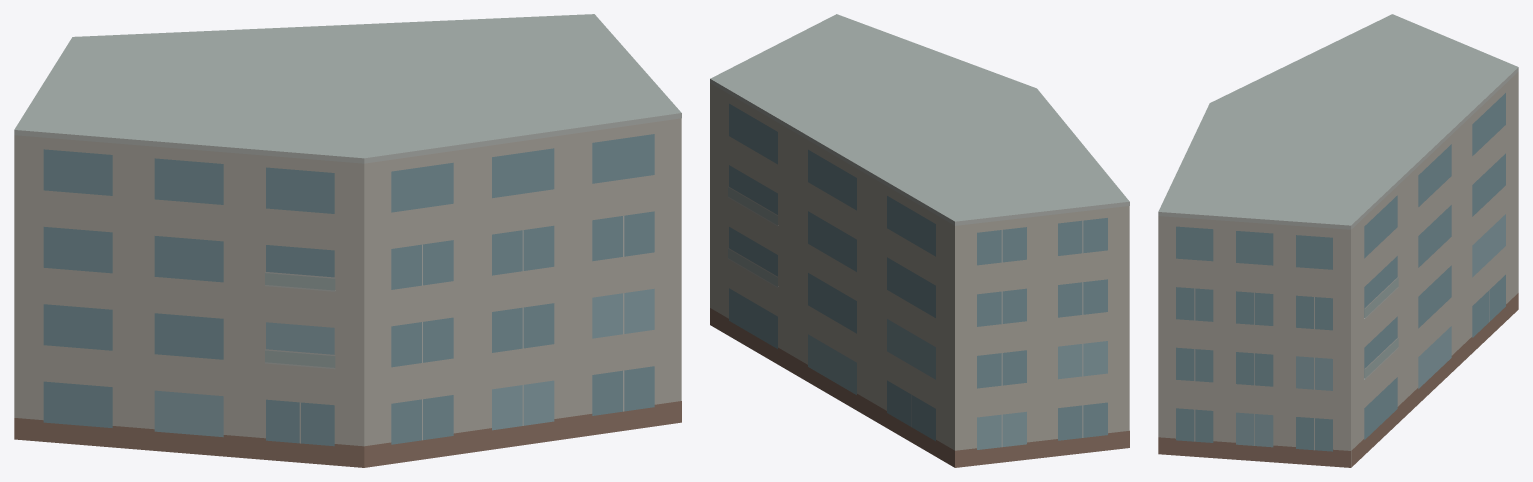
The model's file is survey-upis-32671041.glb.
3 renders of one model, left to right at view 1: azimuth 30°, elevation 25°; view 2: azimuth 150°, elevation 25°; view 3: azimuth 270°, elevation 25°, orthographic. The views are drawn at different scales.
Parts seen in each view (by area): view 1: survey-upis-32671041.tmp; view 2: survey-upis-32671041.tmp; view 3: survey-upis-32671041.tmp.
Part boxes in pixels (bbox=[...]): survey-upis-32671041.tmp: bbox=[14, 14, 681, 467]; survey-upis-32671041.tmp: bbox=[710, 14, 1129, 467]; survey-upis-32671041.tmp: bbox=[1158, 14, 1518, 467].
Bounding box in the file's own units: 26.49 × 14.14 × 19.07.
